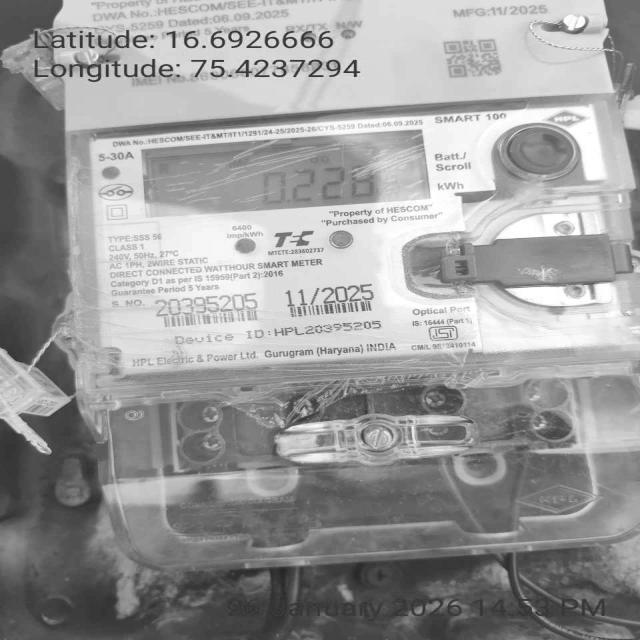meter: (51, 0, 640, 369)
